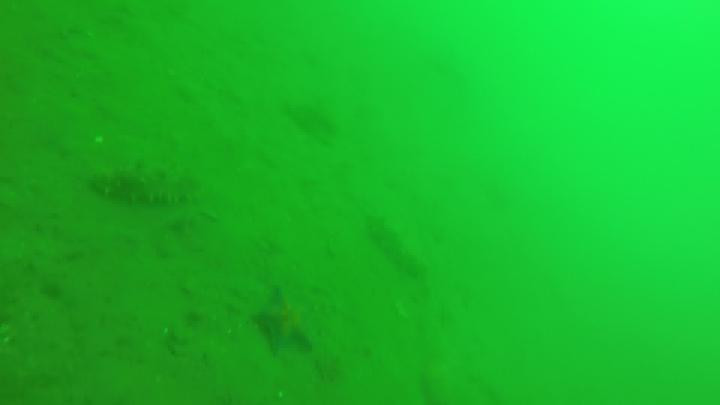holothurian: (93, 160, 202, 207)
starfish: (255, 288, 316, 353)
